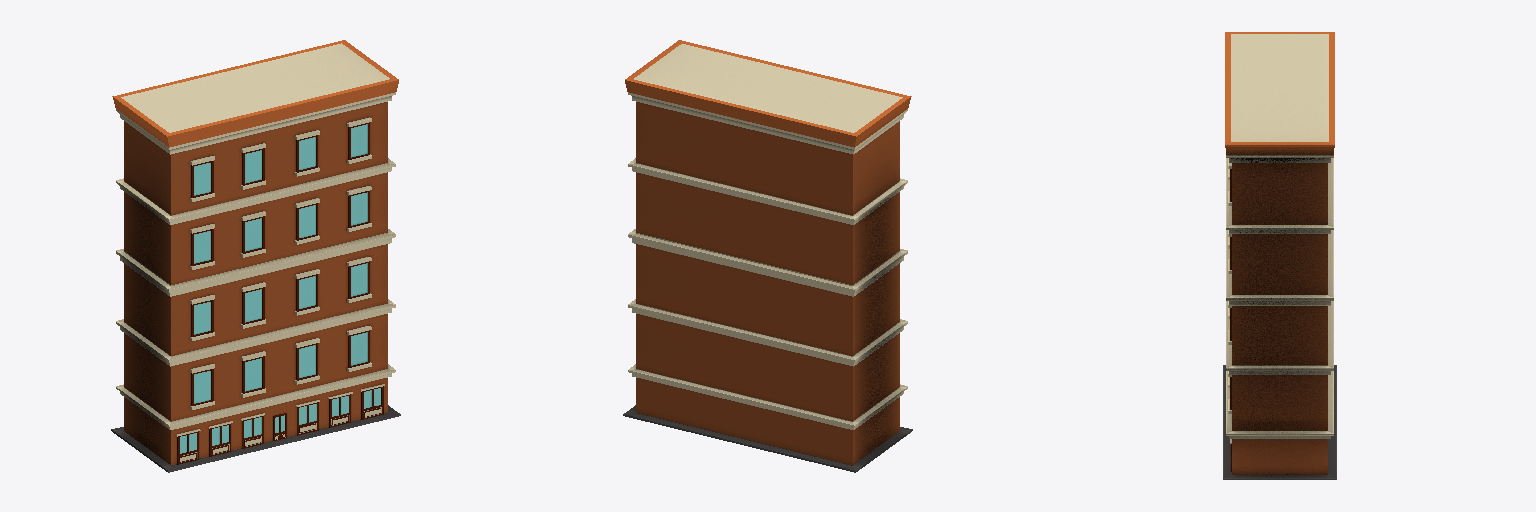
3 views of the same model, side by side, from view 1: azimuth 30°, elevation 25°; view 2: azimuth 150°, elevation 25°; view 3: azimuth 270°, elevation 25° (orthographic).
Parts seen in each view (by area): view 1: texture_finish_now:pCube244; view 2: texture_finish_now:pCube244; view 3: texture_finish_now:pCube244.
Boxes of the visible parts, <box> form: texture_finish_now:pCube244: <box>111,40,400,472</box>; texture_finish_now:pCube244: <box>623,40,912,472</box>; texture_finish_now:pCube244: <box>1223,32,1336,479</box>.
Bounding box in the file's own units: 9.03 × 12.46 × 3.81.
2 materials, 2 textured.